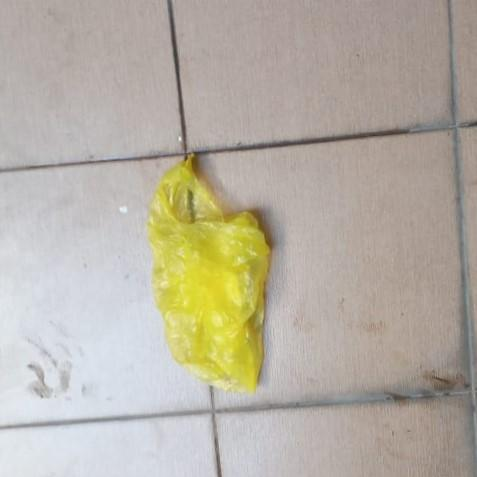Plastik: (147, 153, 272, 396)
